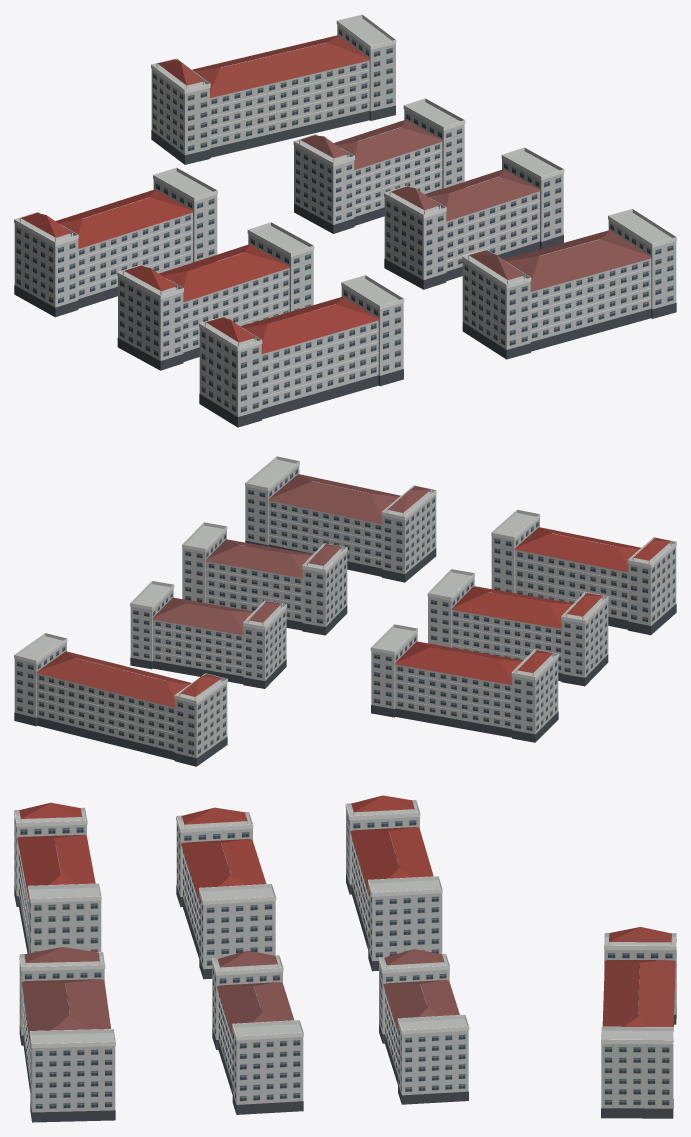
Rendered from dorm_wenyuan_b3.glb.
The picture shows the model from 3 angles, top to bottom: view 1: azimuth 30°, elevation 25°; view 2: azimuth 150°, elevation 25°; view 3: azimuth 270°, elevation 25°; orthographic projection. The views are drawn at different scales.
Visible parts, largest first — view 1: 862959385, 862959374, 862959371, 862959369, 862959370, 862959373, 862959372; view 2: 862959385, 862959374, 862959369, 862959371, 862959370, 862959372, 862959373; view 3: 862959374, 862959385, 862959369, 862959370, 862959373, 862959372, 862959371.
Boxes of the visible parts, x1,y1,x2,y2 form: 862959385: [151, 14, 396, 164]; 862959374: [462, 208, 676, 359]; 862959371: [199, 275, 404, 427]; 862959369: [14, 167, 217, 317]; 862959370: [117, 222, 314, 370]; 862959373: [384, 147, 564, 289]; 862959372: [293, 98, 465, 233]; 862959385: [14, 633, 227, 766]; 862959374: [245, 456, 436, 582]; 862959369: [370, 624, 558, 742]; 862959371: [491, 509, 676, 635]; 862959370: [427, 569, 608, 686]; 862959372: [130, 580, 286, 688]; 862959373: [182, 522, 347, 635]; 862959374: [19, 947, 115, 1122]; 862959385: [601, 927, 676, 1118]; 862959369: [345, 795, 442, 971]; 862959370: [176, 807, 276, 979]; 862959373: [212, 950, 303, 1114]; 862959372: [378, 949, 469, 1104]; 862959371: [14, 802, 101, 953].
Size of the model in its own units: 154 by 28.49 by 177.
Materials: 4 (3 with a texture image).
